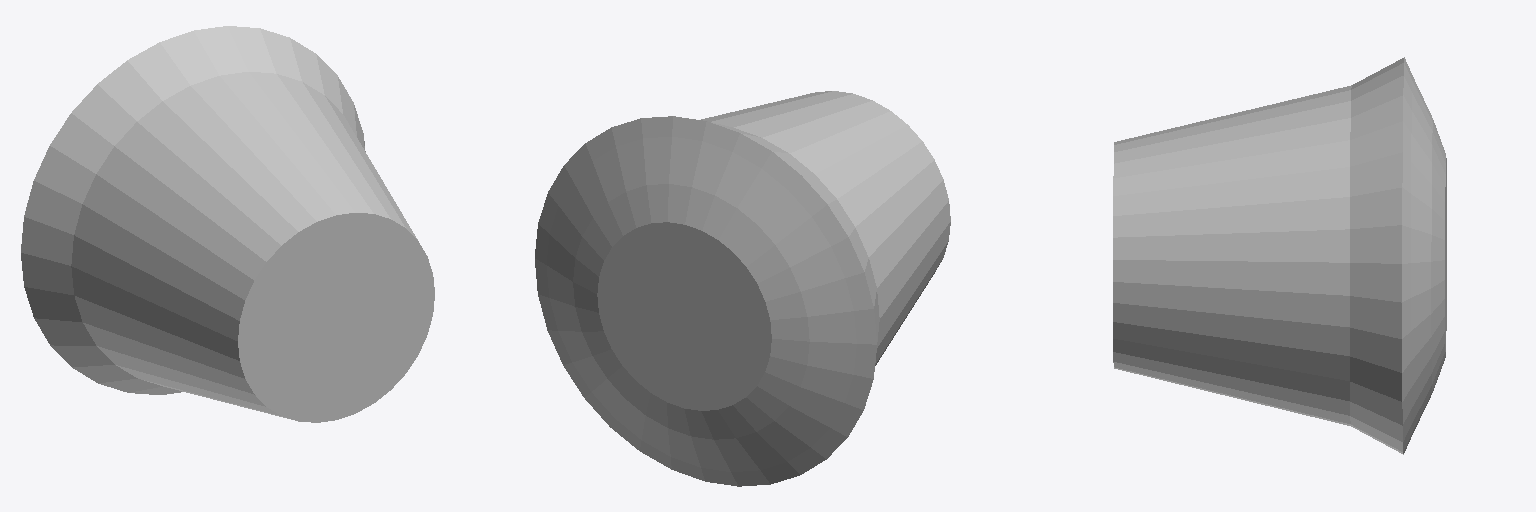
File: light.obj
3 renders of one model, left to right at view 1: azimuth 30°, elevation 25°; view 2: azimuth 150°, elevation 25°; view 3: azimuth 270°, elevation 25°, orthographic.
Visible parts, largest first — view 1: Cylinder; view 2: Cylinder; view 3: Cylinder.
Boxes of the visible parts, x1=… form: Cylinder: x1=21, y1=26, x2=434, y2=422; Cylinder: x1=535, y1=91, x2=950, y2=486; Cylinder: x1=1113, y1=57, x2=1446, y2=454.
Bounding box in the file's own units: 4.05 × 4.05 × 3.4.